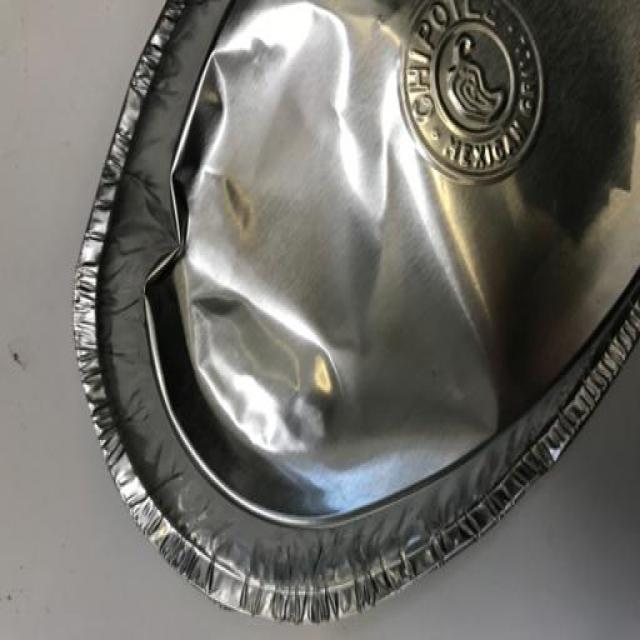metel: (38, 1, 640, 640)
